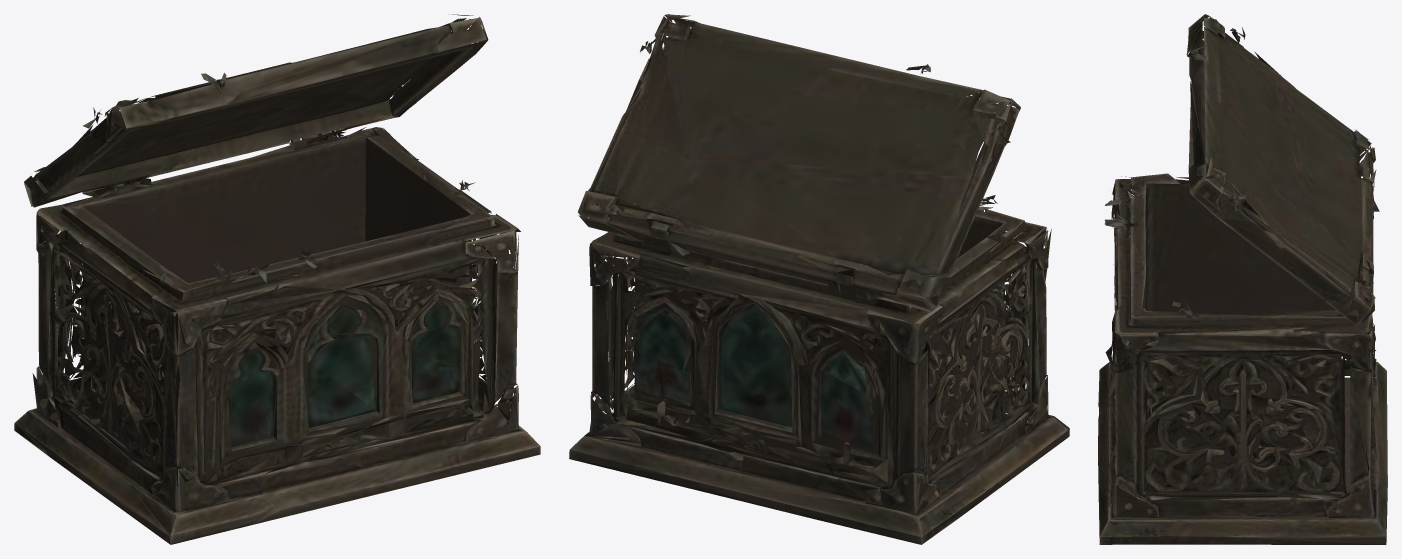
Rendered from reliquary.glb.
3 renders of one model, left to right at view 1: azimuth 30°, elevation 25°; view 2: azimuth 150°, elevation 25°; view 3: azimuth 270°, elevation 25°, orthographic. The views are drawn at different scales.
Parts seen in each view (by area): view 1: Mesh_0; view 2: Mesh_0; view 3: Mesh_0.
Boxes of the visible parts, x1,y1,x2,y2 form: Mesh_0: (14,14,540,544); Mesh_0: (569,14,1069,544); Mesh_0: (1098,14,1387,544).
Size of the model in its own units: 0.13 by 0.1288 by 0.0903.
Materials: 1 (1 with a texture image).
